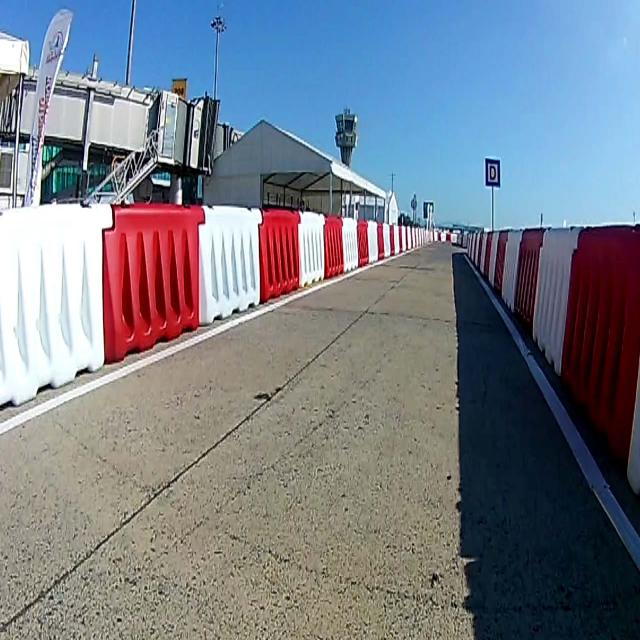durak: (484, 156, 500, 186)
